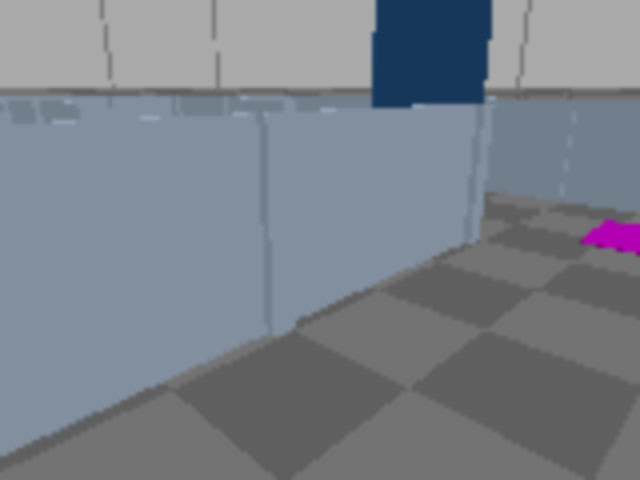goal_zone: (578, 221, 638, 269)
